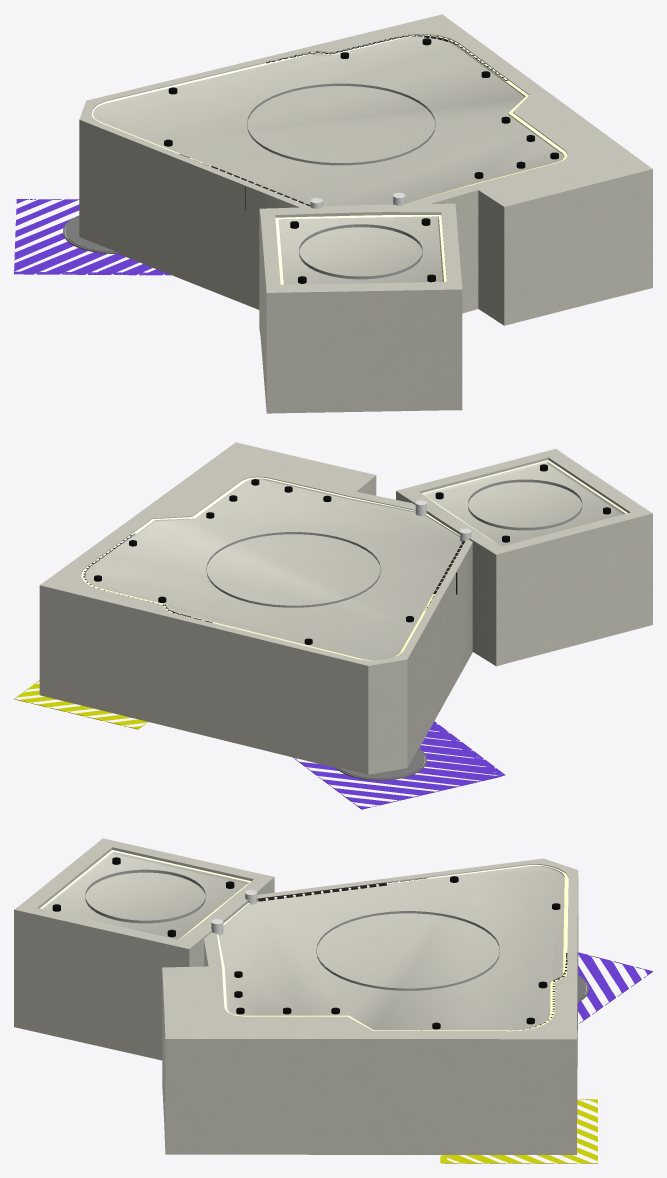
File: Env.glb
The picture shows the model from 3 angles, top to bottom: view 1: azimuth 30°, elevation 25°; view 2: azimuth 150°, elevation 25°; view 3: azimuth 270°, elevation 25°; orthographic projection. The views are drawn at different scales.
Parts seen in each view (by area): view 1: WallsV2, RoofV2, WallsEntrance, WallsEntrance.001, Plane.002, RoofCircle, RoofCircle.002, Circle; view 2: WallsV2, RoofV2, WallsEntrance, WallsEntrance.001, Plane.002, Plane.003, RoofCircle, Circle, RoofCircle.002; view 3: WallsV2, RoofV2, WallsEntrance, WallsEntrance.001, Plane.003, Plane.002, RoofCircle, RoofCircle.002, WallsV2.004.
Boxes of the visible parts, x1,y1,x2,y2 form: WallsV2: (79, 14, 652, 325); RoofV2: (91, 34, 567, 205); WallsEntrance: (259, 203, 462, 413); WallsEntrance.001: (275, 215, 446, 284); Plane.002: (14, 199, 171, 275); RoofCircle: (247, 83, 435, 165); RoofCircle.002: (299, 224, 422, 279); Circle: (63, 215, 117, 253); WallsV2: (39, 442, 472, 774); RoofV2: (81, 477, 462, 660); WallsEntrance: (396, 448, 652, 666); WallsEntrance.001: (422, 460, 627, 546); Plane.002: (293, 721, 505, 809); Plane.003: (14, 680, 147, 729); RoofCircle: (206, 532, 380, 607); Circle: (335, 748, 426, 780); RoofCircle.002: (468, 479, 582, 530); WallsV2: (162, 858, 578, 1154); RoofV2: (217, 865, 568, 1031); WallsEntrance: (14, 838, 274, 1060); WallsEntrance.001: (40, 850, 251, 939); Plane.003: (440, 1099, 597, 1163); Plane.002: (578, 952, 652, 1023); RoofCircle: (316, 911, 499, 990); RoofCircle.002: (85, 869, 205, 923); WallsV2.004: (257, 878, 427, 901).
Size of the model in its own units: 40.39 by 10.59 by 47.5.
Materials: 29 (13 with a texture image).
